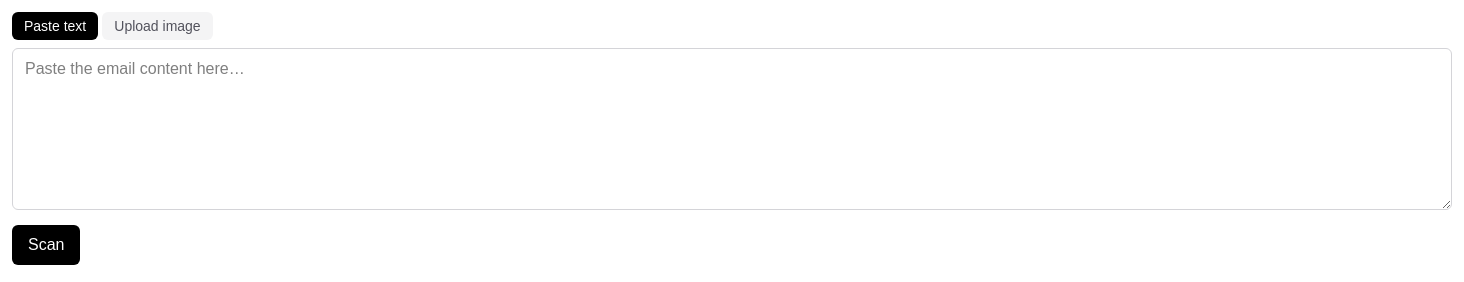
Test: MessageScanForm (email) › disables the submit button while the scan is in progress
Type "test message" into the text box at (732, 129), box top-left (12, 48), bottom-right (1452, 210)
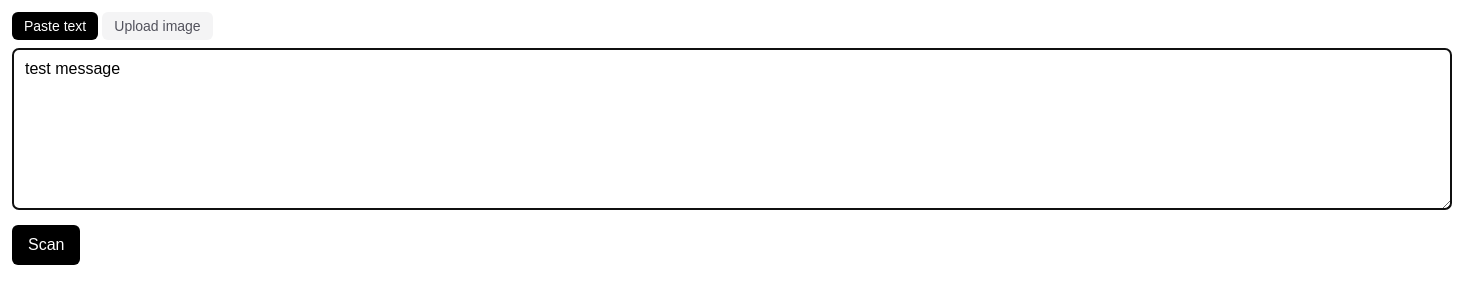
Click the button "Scan" at (46, 245), box top-left (12, 225), bottom-right (80, 265)
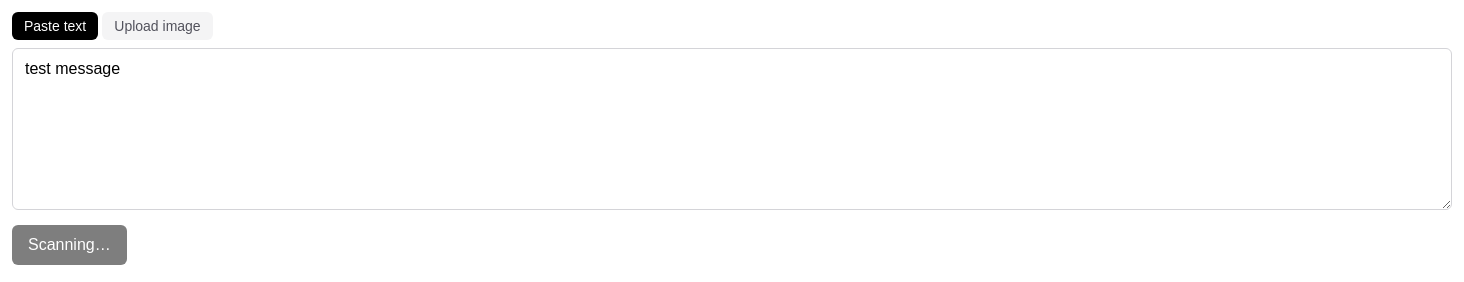
Expected: the button "Scanning…" is disabled, top-left (12, 225), bottom-right (127, 265)
